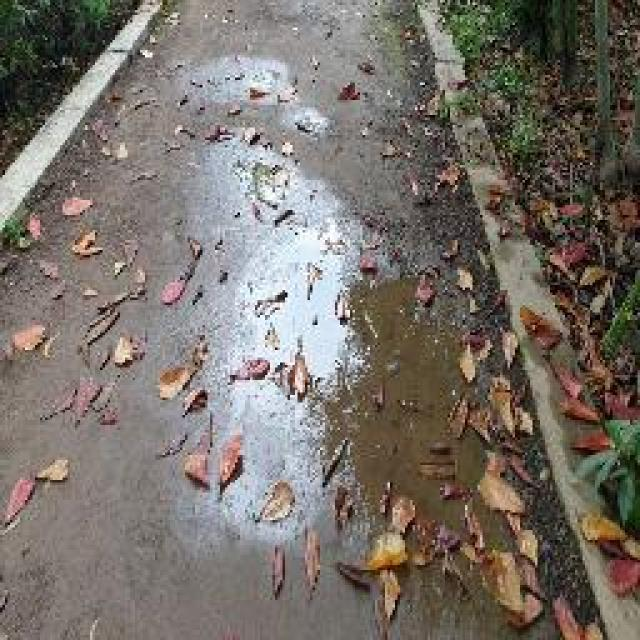puddle: (221, 218, 483, 551)
